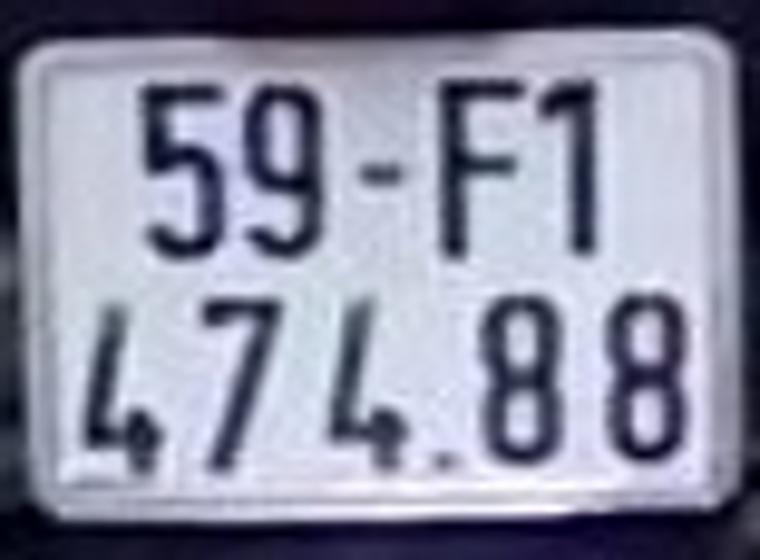-: (356, 160, 412, 195)
.: (432, 441, 469, 479)
1: (534, 78, 603, 257)
4: (327, 300, 423, 471), (77, 295, 164, 478)
5: (136, 74, 227, 269)
7: (199, 297, 286, 480)
8: (479, 287, 564, 463), (601, 292, 692, 455)
9: (241, 85, 328, 264)
F: (432, 77, 530, 254)
